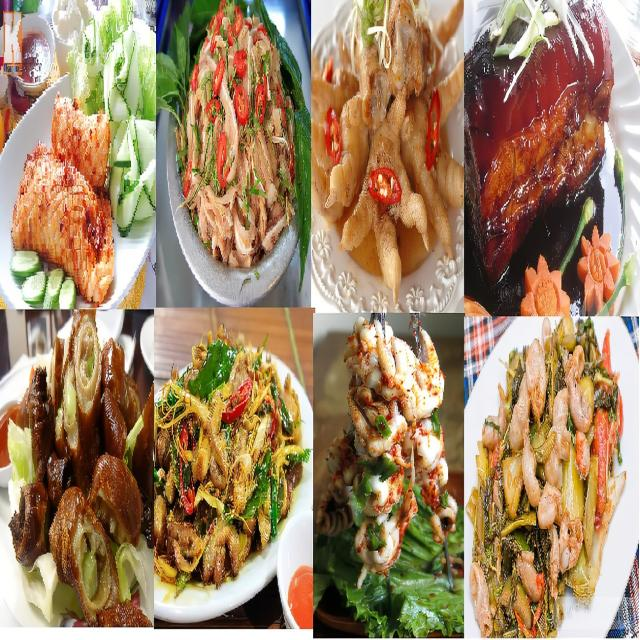bach tuoc nuong: (313, 317, 463, 640)
ca song: (156, 1, 310, 306)
chan ga sa tac: (311, 0, 464, 312)
heo quay: (464, 0, 639, 313)
long gia chien: (0, 312, 156, 635)
muc nuong: (0, 1, 155, 308)
muc xao cai chua: (464, 315, 640, 637)
